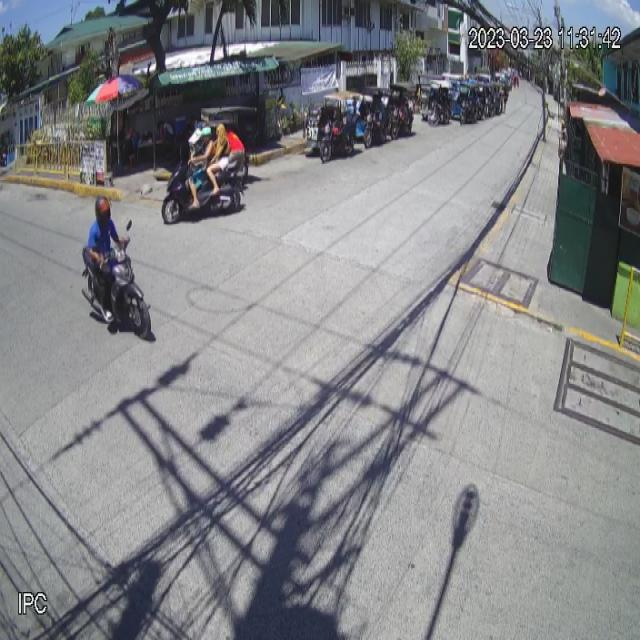Motorcycle: (81, 219, 151, 340), (160, 156, 248, 226)
